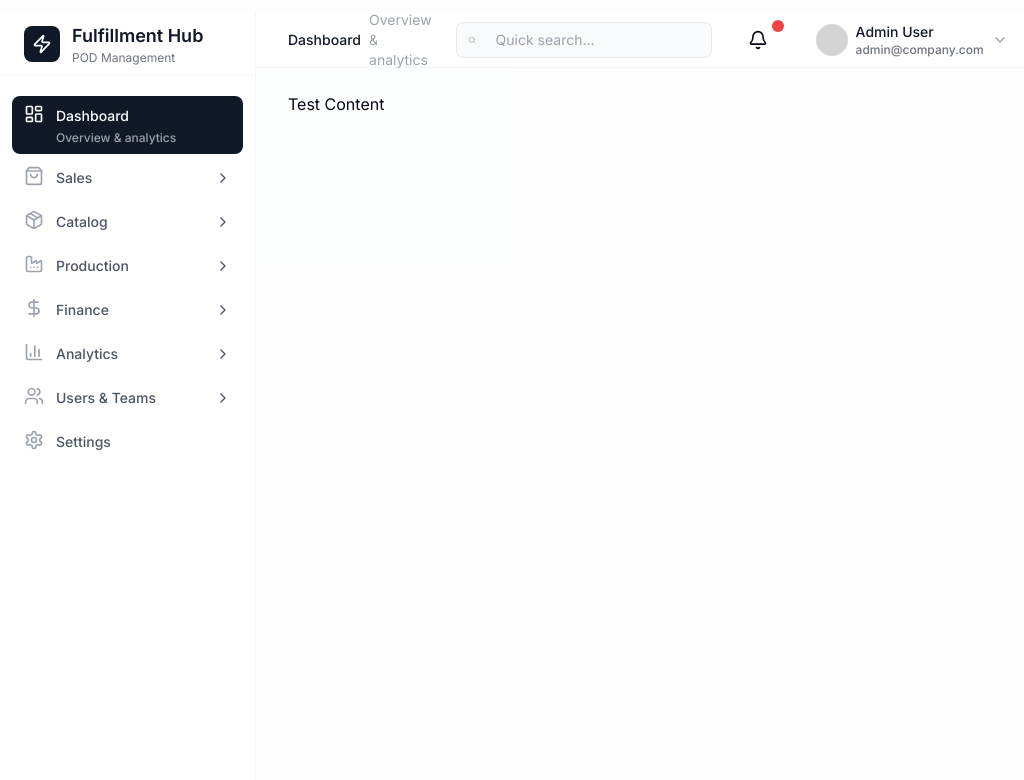
Test case: AdminLayout Component › should expand submenu on click
The width and height of the screenshot is (1024, 780).
Click the button "Sales". click: coordinates (128, 178)
box: [12,158,243,198]
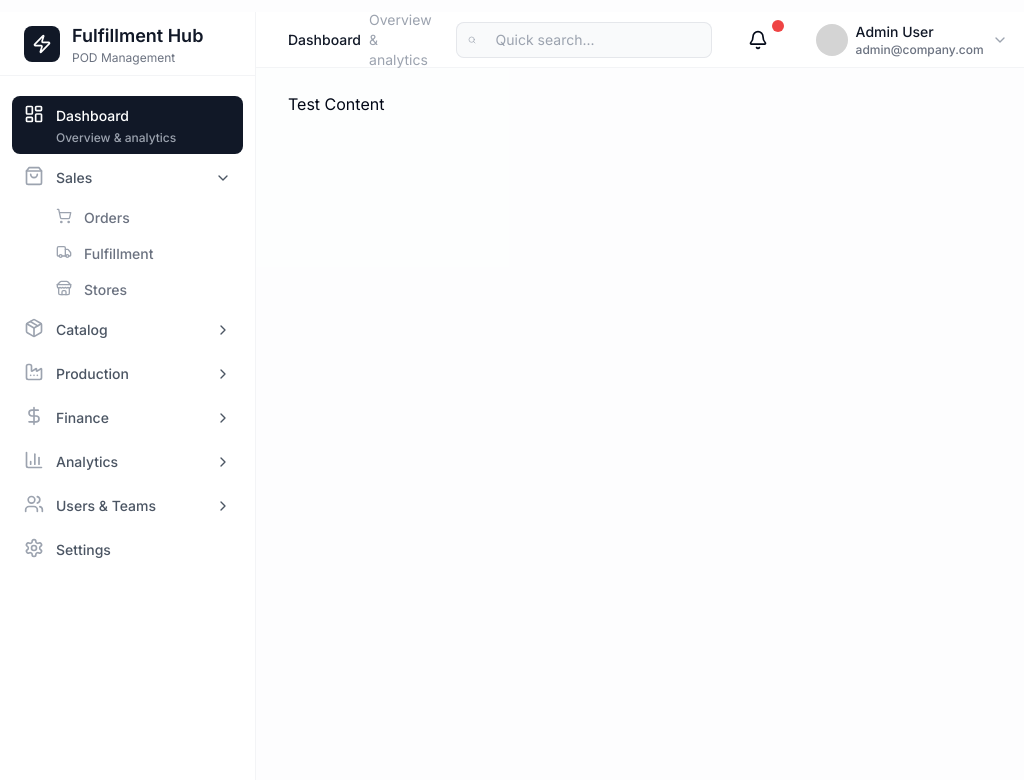
Check: the text "Orders" is shown, box [84,208,130,228]
Check: the text "Fulfillment" is shown, box [84,244,154,264]
Check: the text "Stores" is shown, box [84,280,127,300]
